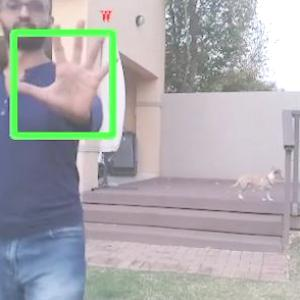follow_hand: (9, 16, 123, 115)
